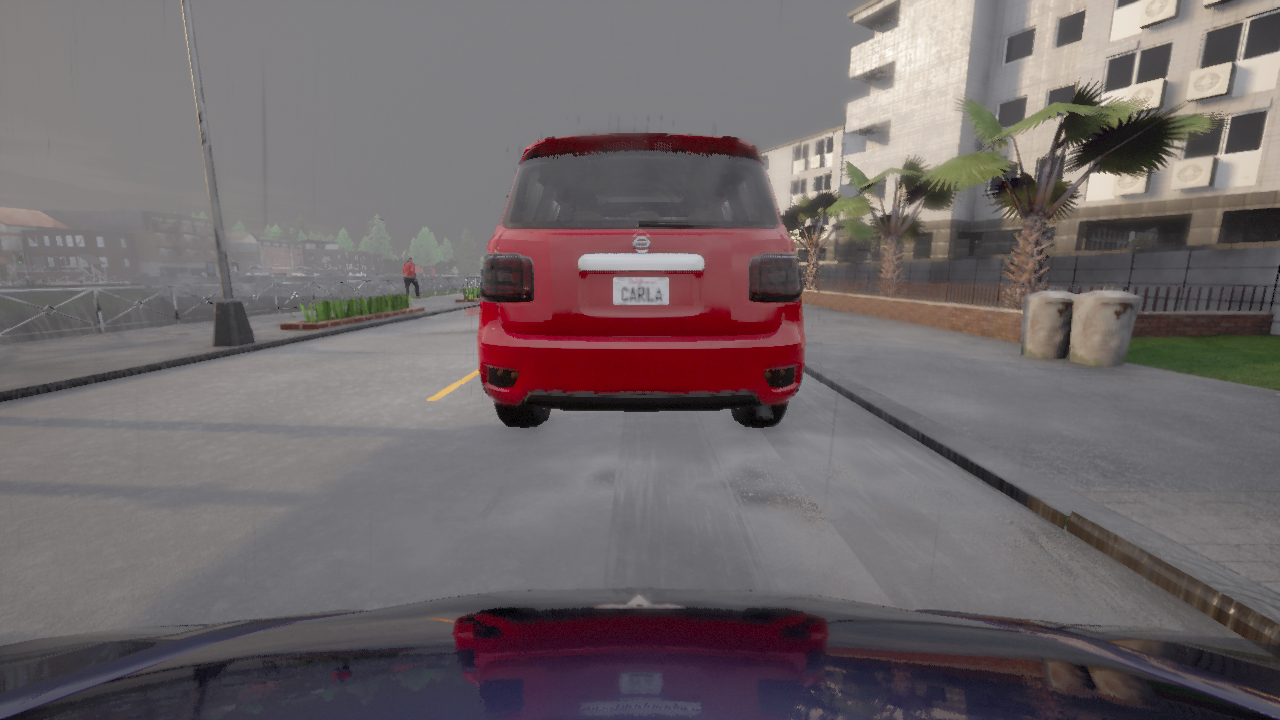cyclist: (0, 588, 1279, 719), (477, 134, 804, 426), (325, 271, 346, 276), (821, 253, 822, 260)
pedestrian: (402, 257, 420, 298)
